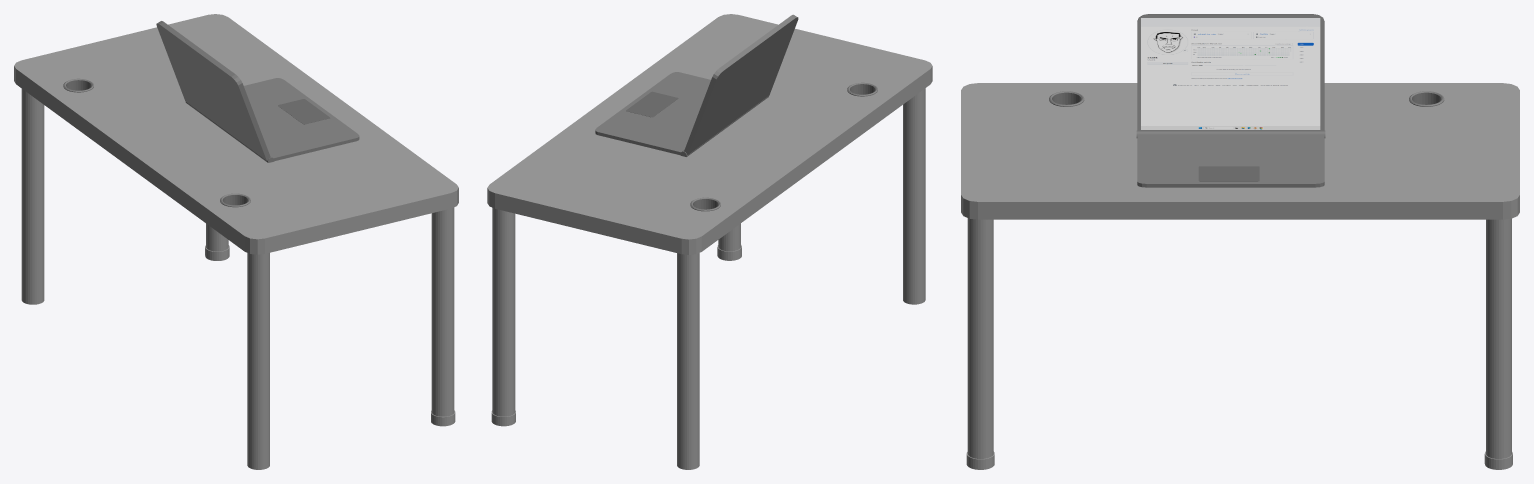
Rendered from desk_laptop.fbx.
3 views of the same model, side by side, from view 1: azimuth 30°, elevation 25°; view 2: azimuth 150°, elevation 25°; view 3: azimuth 270°, elevation 25° (orthographic). The views are drawn at different scales.
Parts seen in each view (by area): view 1: Cylinder, Cube.004; view 2: Cylinder, Cube.004; view 3: Cylinder, Cube.004.
Boxes of the visible parts, x1,y1,x2,y2 form: Cylinder: (14, 14, 458, 469); Cube.004: (156, 21, 359, 162); Cylinder: (487, 14, 932, 469); Cube.004: (595, 14, 798, 156); Cylinder: (961, 83, 1519, 469); Cube.004: (1136, 14, 1325, 187).
Size of the model in its own units: 530 by 778 by 1053.
5 materials, 1 textured.
